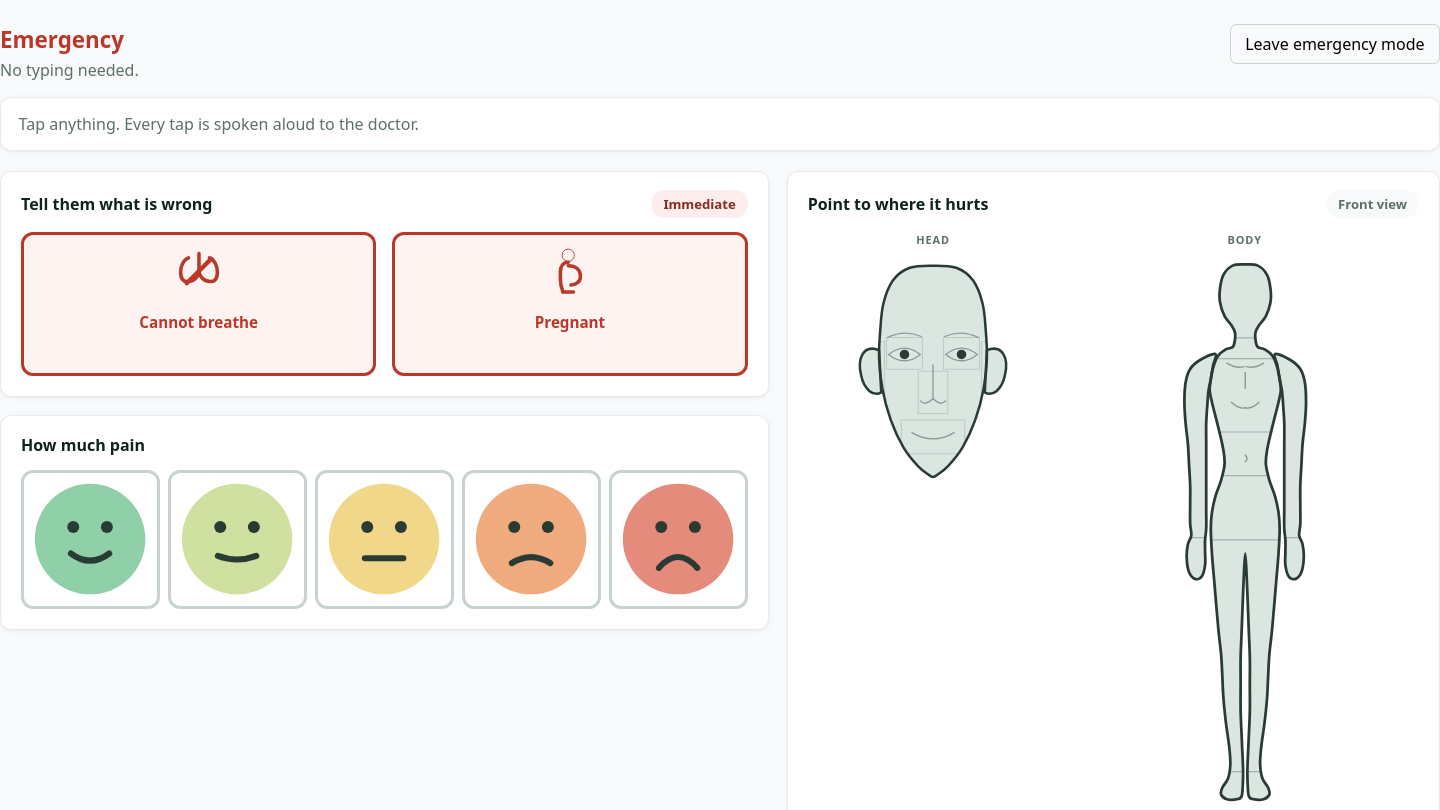
telling the patient they are being heard › shows a speaking face, a wave and the words, over everything
Step 1. Click the button with test id "pain-level-5" → (678,539), box [609,470,748,609]
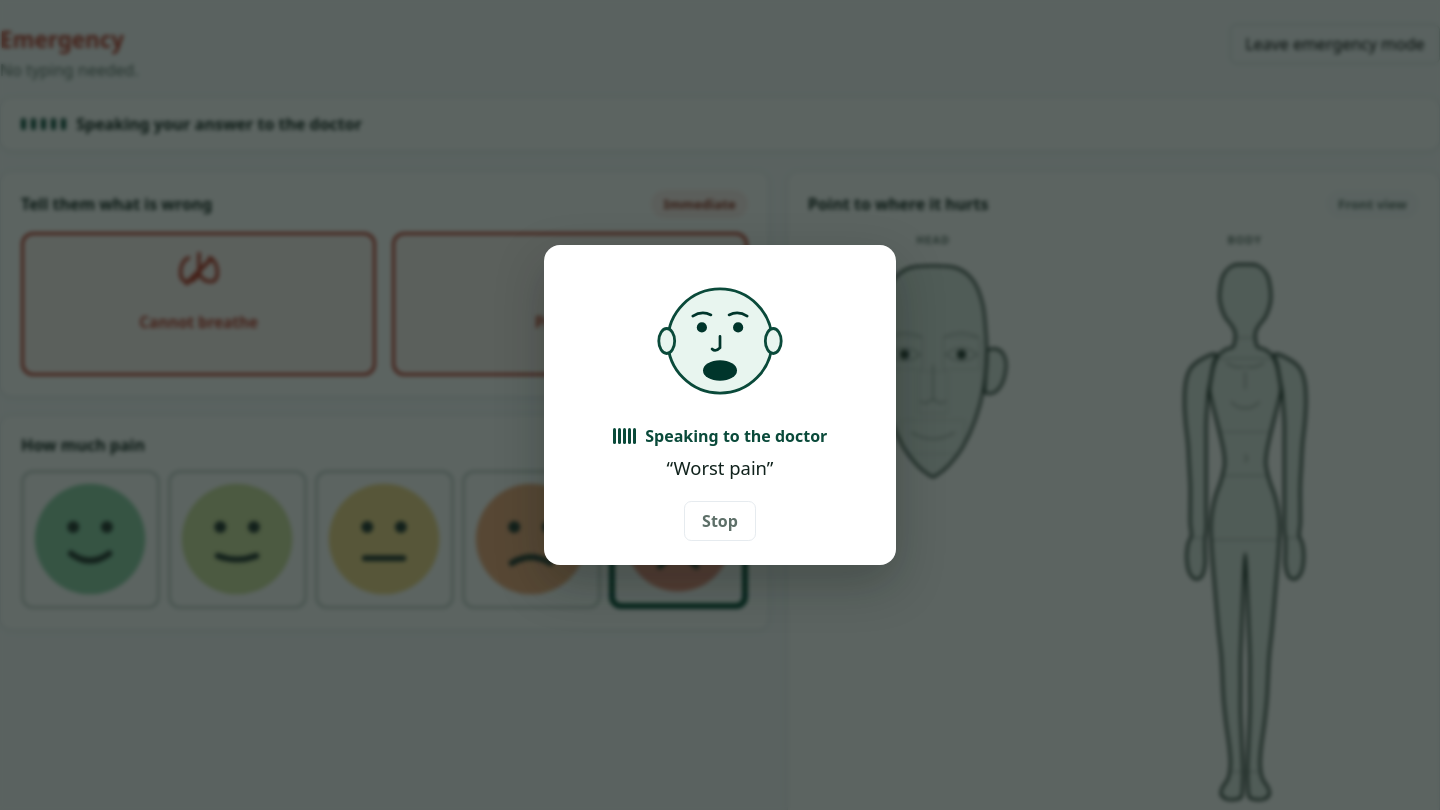
Expected: the element with test id "speaking-overlay" is shown
Expected: the element with class "wave" is shown, [613,428,636,444]
Expected: the picture with test id "talking-face" is shown, [652,273,788,409]
